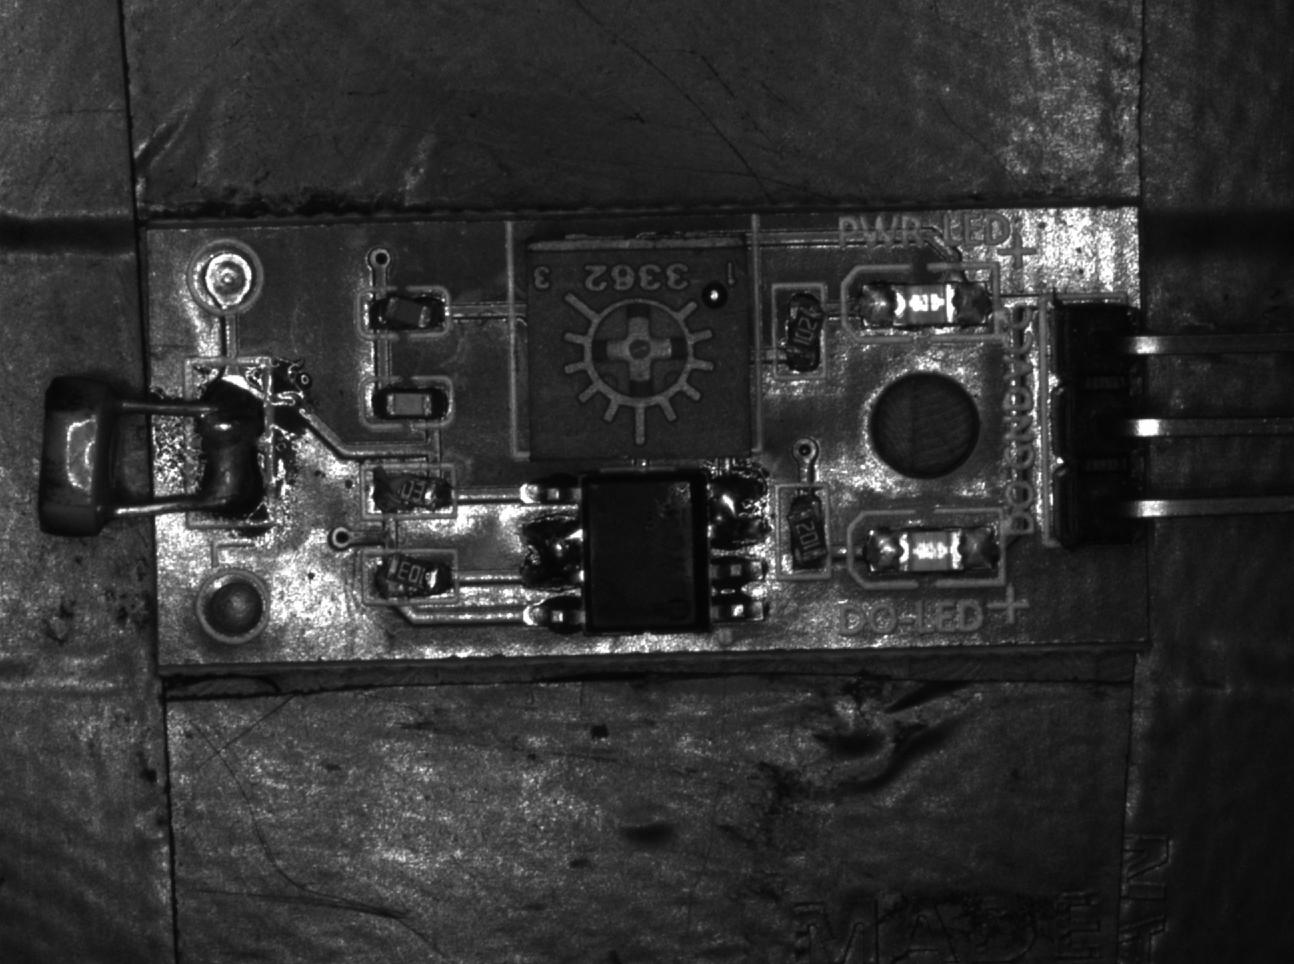bridge: (186, 363, 279, 528), (704, 470, 770, 549), (511, 518, 579, 589)
lifted: (771, 283, 826, 381), (779, 484, 834, 578), (361, 550, 459, 600), (357, 287, 450, 339), (363, 467, 458, 515)
ok: (360, 377, 453, 427)
